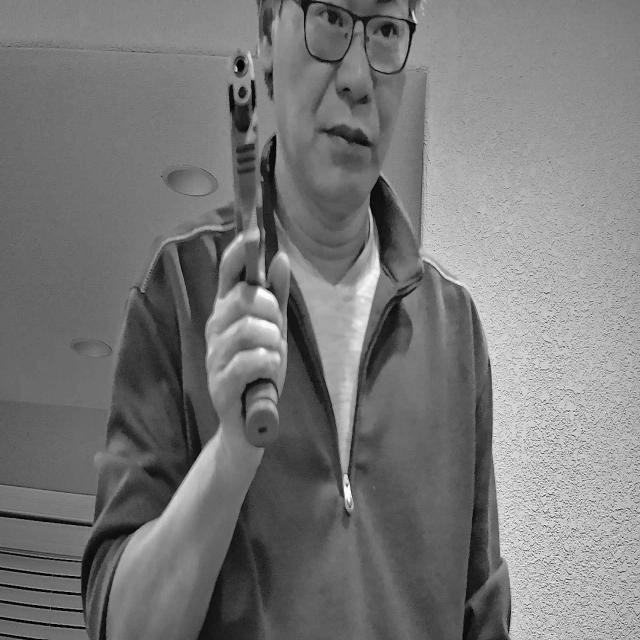Hand-Gun: (157, 0, 377, 550)
